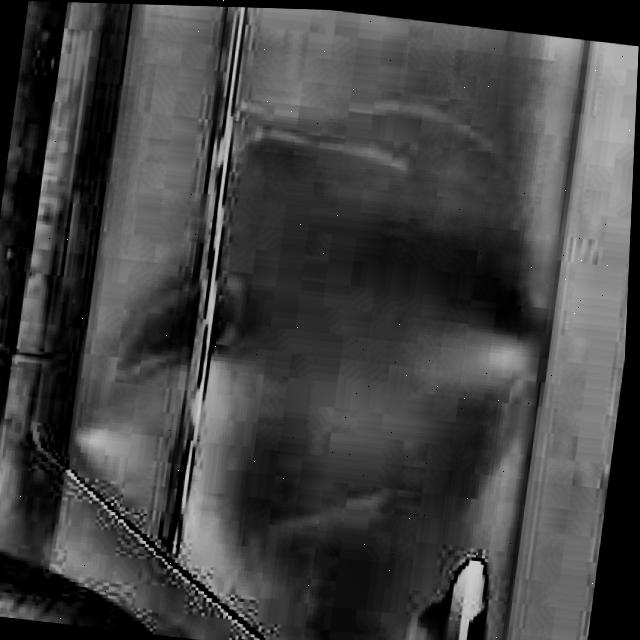door_dent: (82, 209, 548, 547)
